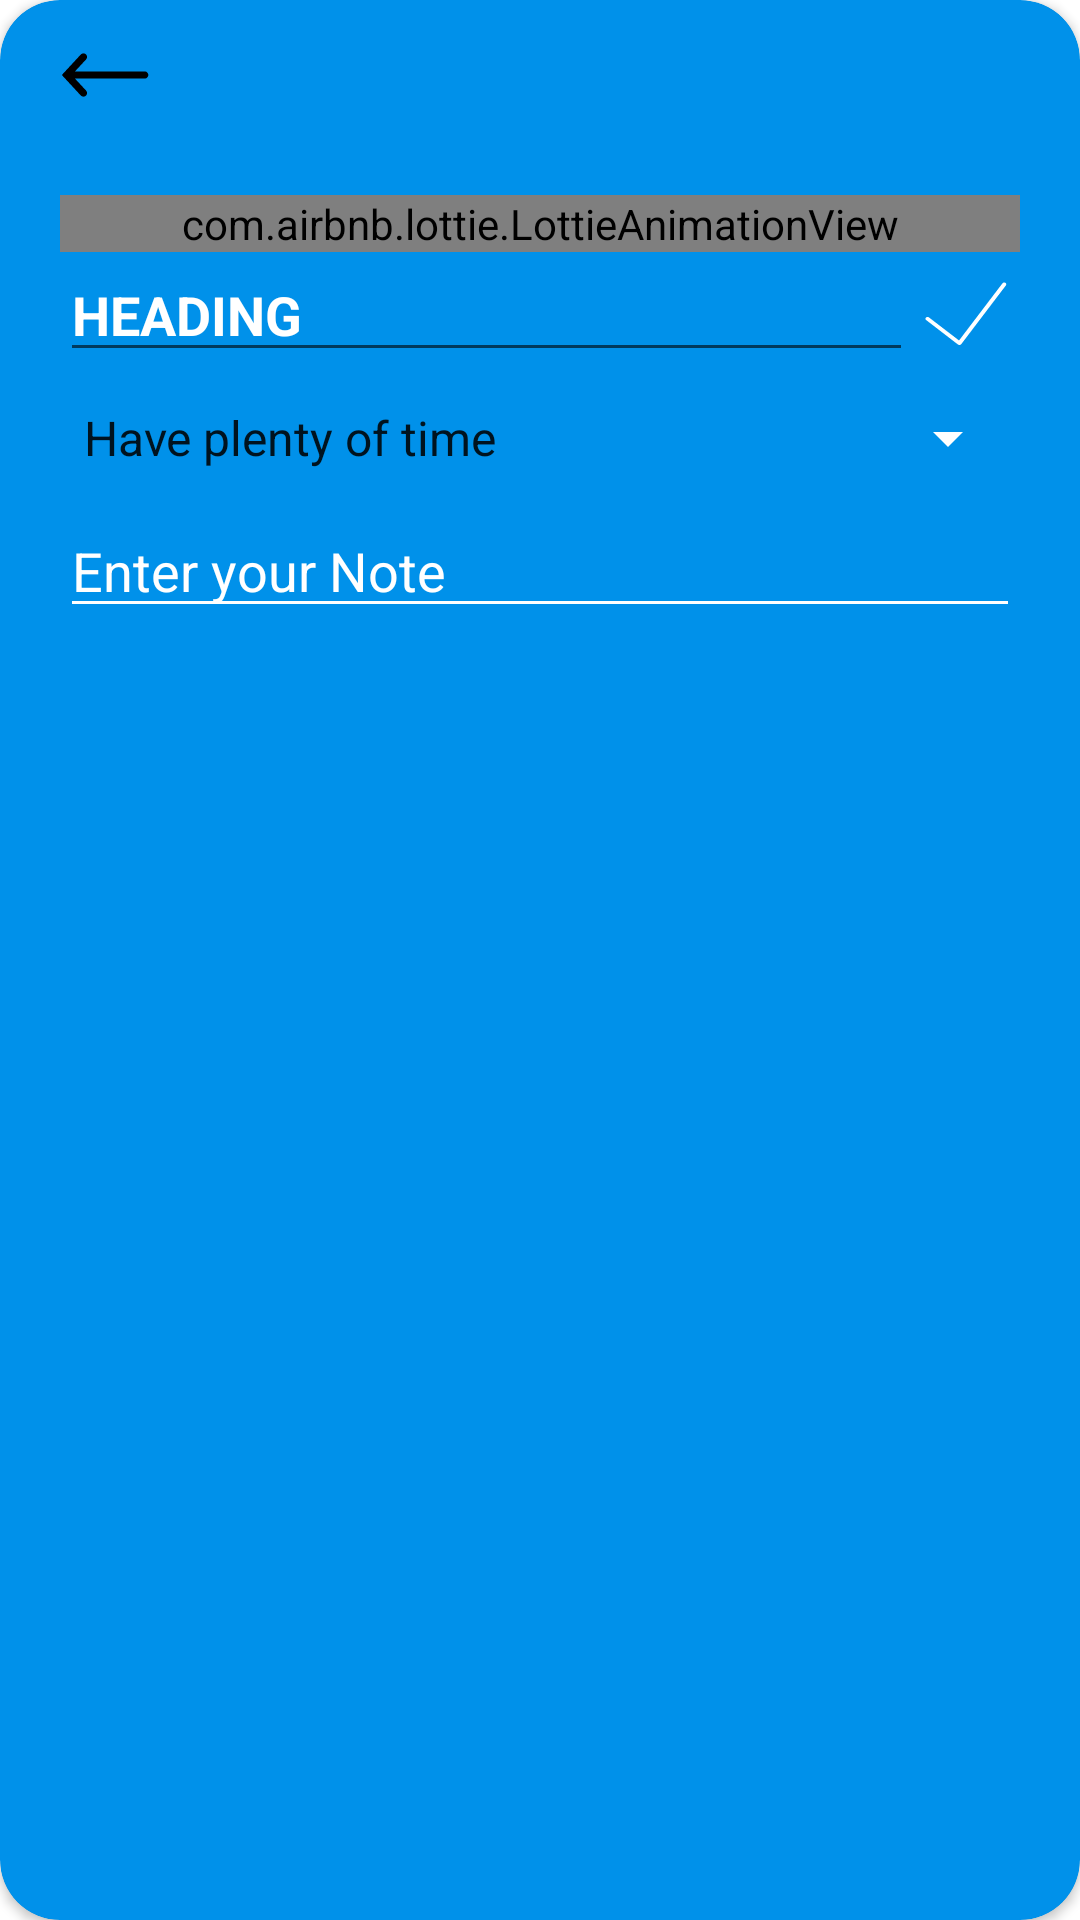

Locate icon controls on the screen. Image size 1080x1920, boxes as (x1, y1, x2, y2).
checkmark: (925, 282, 1007, 345)
left arrow: (62, 53, 149, 97)
